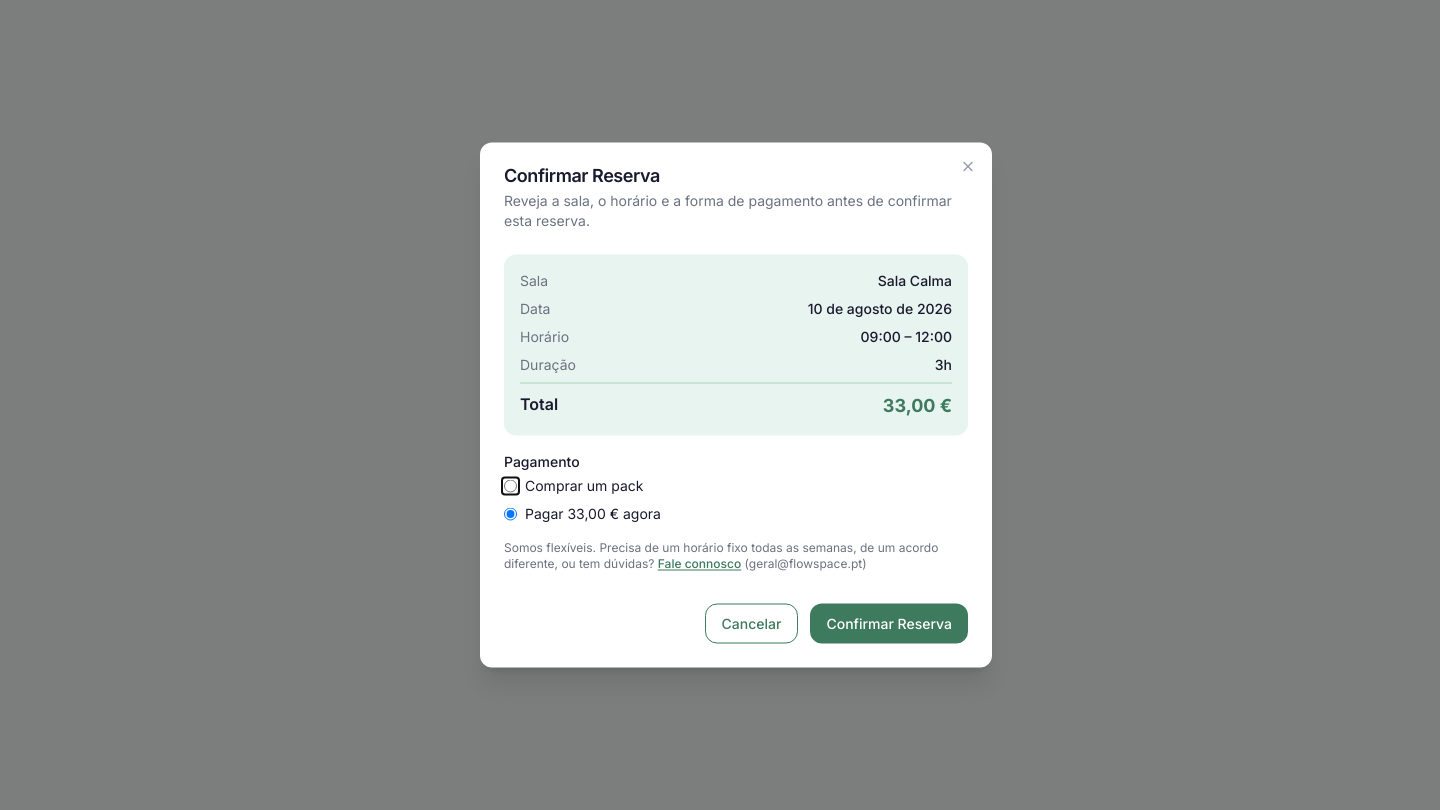
Test: BookingModal checkout › surfaces a 409 as a slot conflict rather than the generic error (B1)
Click the button "Confirmar Reserva".
click(889, 624)  # box [810,604,968,644]
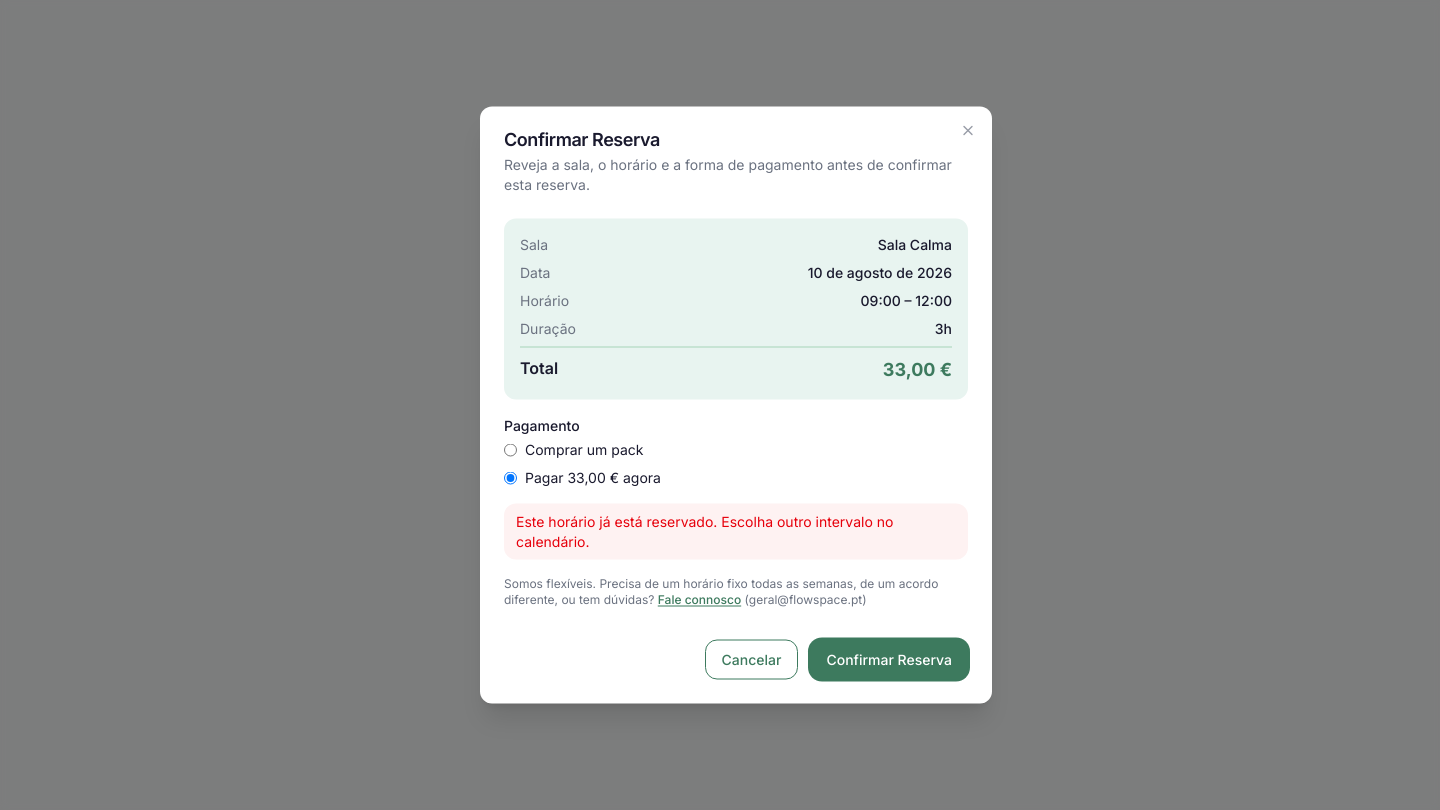
Expected: the message does not show "Erro ao criar reserva", [504,504,968,560]
Expected: the message reads "Este horário já está reservado. Escolha outro intervalo no calendário.", [516,512,893,550]
